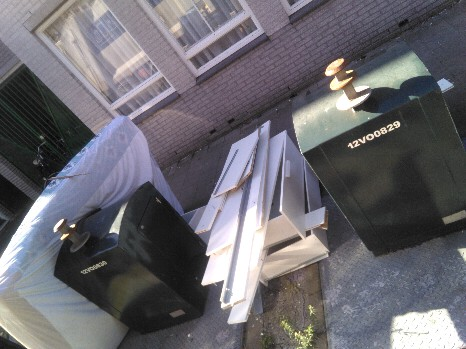Container: (288, 86, 464, 268), (61, 214, 203, 318)
Rest: (199, 143, 316, 291), (41, 147, 184, 209), (11, 250, 98, 349)
